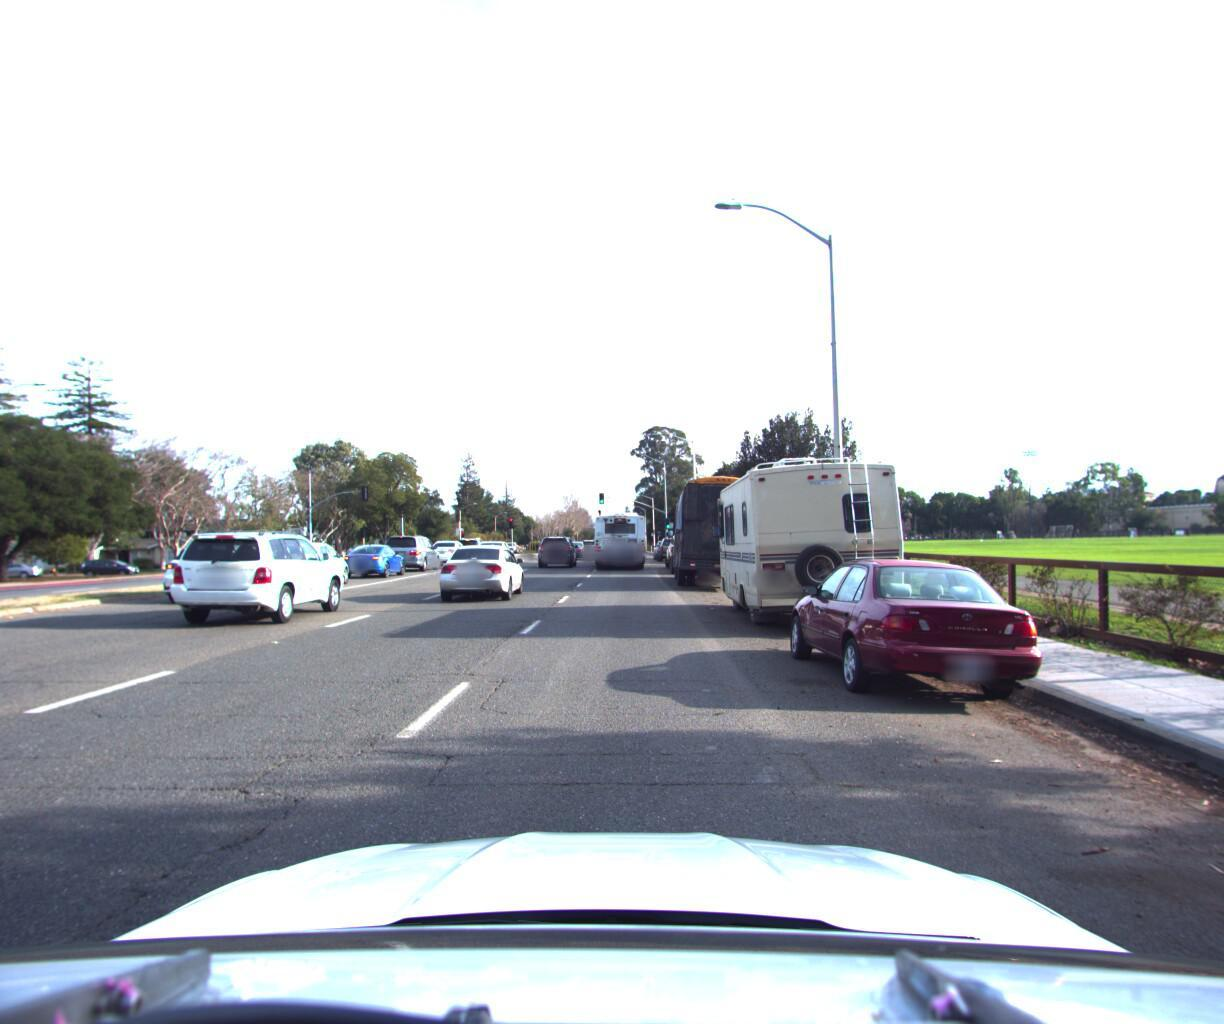bus: (668, 468, 784, 587), (591, 498, 651, 564)
car: (782, 544, 1069, 728), (167, 526, 353, 628), (152, 533, 301, 605), (433, 534, 531, 596), (264, 535, 360, 589), (340, 536, 413, 575), (380, 527, 445, 569), (537, 528, 577, 561), (428, 532, 474, 561), (78, 560, 148, 579), (565, 537, 591, 557), (584, 536, 607, 552)
other_vehicle: (714, 434, 919, 638)
